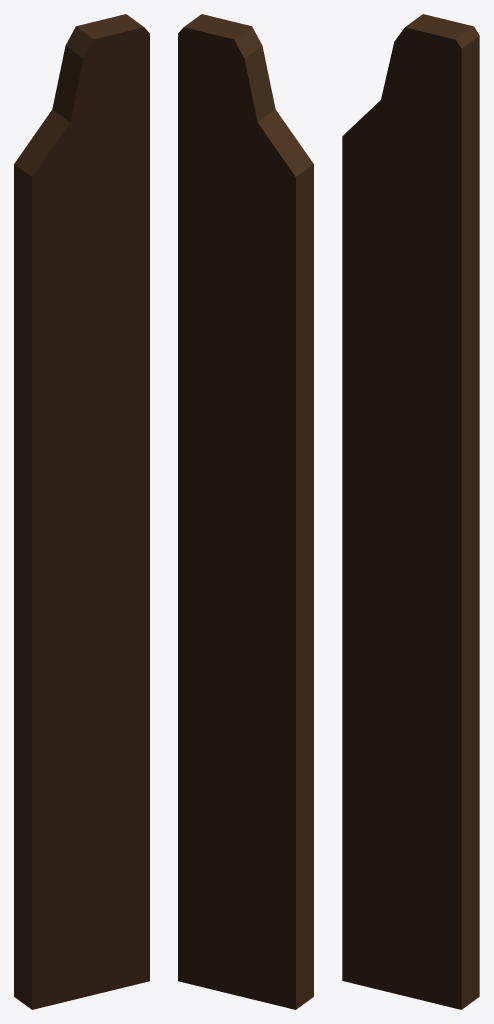
File: Cave_Lair_Wooden_Timber_Plank_02.fbx
3 views of the same model, side by side, from view 1: azimuth 30°, elevation 25°; view 2: azimuth 150°, elevation 25°; view 3: azimuth 330°, elevation 25° (orthographic).
Visible parts, largest first — view 1: Cave_Lair_Wooden_Timber_Plank_02; view 2: Cave_Lair_Wooden_Timber_Plank_02; view 3: Cave_Lair_Wooden_Timber_Plank_02.
Boxes of the visible parts, x1,y1,x2,y2 form: Cave_Lair_Wooden_Timber_Plank_02: (14,14,149,1009); Cave_Lair_Wooden_Timber_Plank_02: (178,14,313,1009); Cave_Lair_Wooden_Timber_Plank_02: (342,14,479,1009).
Bounding box in the file's own units: 0.1769 × 1.37 × 0.0468.
